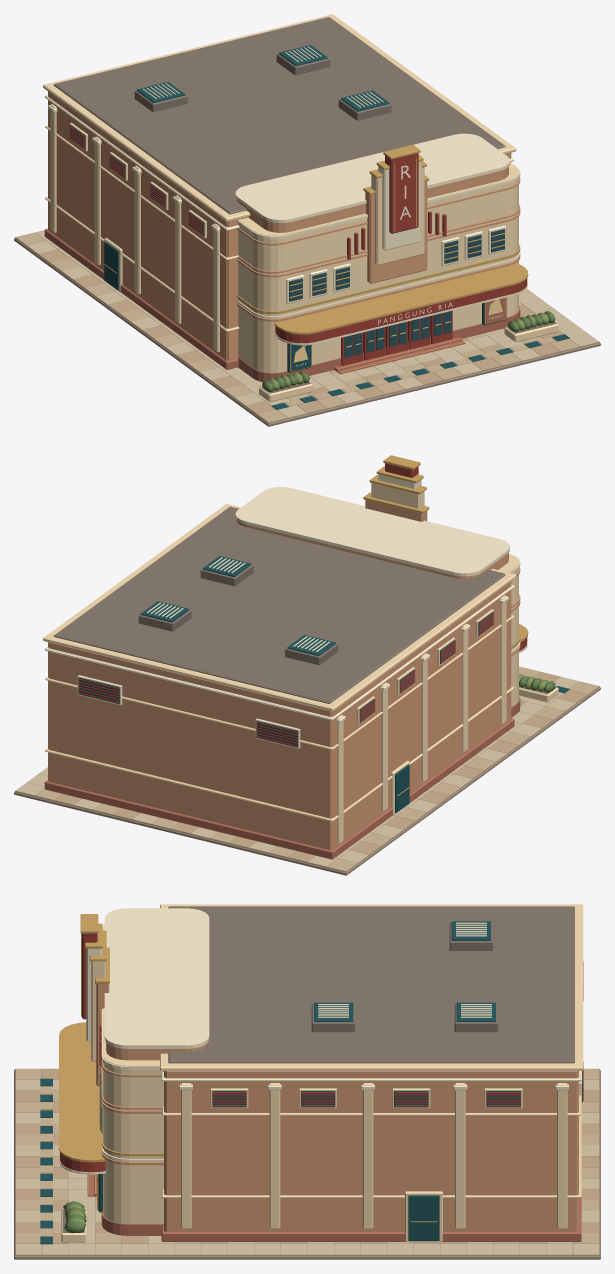
3 views of the same model, one above another, from view 1: azimuth 30°, elevation 25°; view 2: azimuth 150°, elevation 25°; view 3: azimuth 270°, elevation 25° (orthographic). The views are drawn at different scales.
Parts seen in each view (by area): view 1: Auditorium Shell, Streamline Façade, Cinema Forecourt, Street Marquee, Deco Sign Tower, Entry Doors, Roof Plant, Auditorium Ventilation, Poster Cases; view 2: Auditorium Shell, Streamline Façade, Cinema Forecourt, Auditorium Ventilation, Roof Plant, Deco Sign Tower; view 3: Auditorium Shell, Streamline Façade, Cinema Forecourt, Street Marquee, Auditorium Ventilation, Roof Plant, Deco Sign Tower.
Boxes of the visible parts, box(x1,y1,x2,y2) form: Auditorium Shell: box(43, 14, 516, 369); Streamline Façade: box(235, 133, 520, 382); Cinema Forecourt: box(14, 230, 600, 426); Street Marquee: box(274, 263, 528, 345); Deco Sign Tower: box(363, 145, 429, 283); Entry Doors: box(334, 310, 465, 374); Roof Plant: box(134, 45, 391, 120); Auditorium Ventilation: box(69, 123, 206, 292); Poster Cases: box(287, 297, 506, 372); Auditorium Shell: box(43, 504, 516, 859); Streamline Façade: box(235, 487, 520, 717); Cinema Forecourt: box(14, 666, 600, 875); Auditorium Ventilation: box(77, 609, 494, 815); Roof Plant: box(138, 556, 338, 665); Deco Sign Tower: box(363, 455, 429, 521); Auditorium Shell: box(160, 904, 583, 1241); Streamline Façade: box(99, 908, 209, 1235); Cinema Forecourt: box(14, 1068, 600, 1259); Street Marquee: box(59, 1022, 106, 1174); Auditorium Ventilation: box(210, 961, 583, 1242); Roof Plant: box(311, 921, 498, 1032); Deco Sign Tower: box(80, 914, 109, 1086).
Size of the model in its own units: 20.4 by 12.39 by 27.
